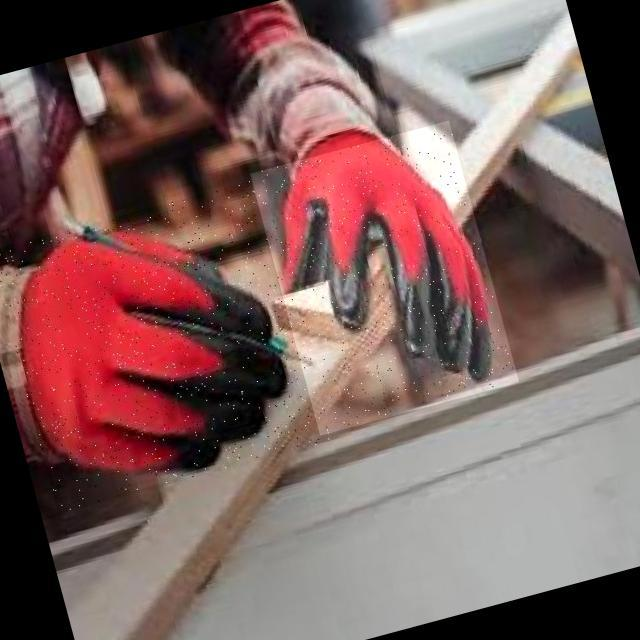Gloves: (0, 178, 329, 513), (250, 120, 519, 435)
